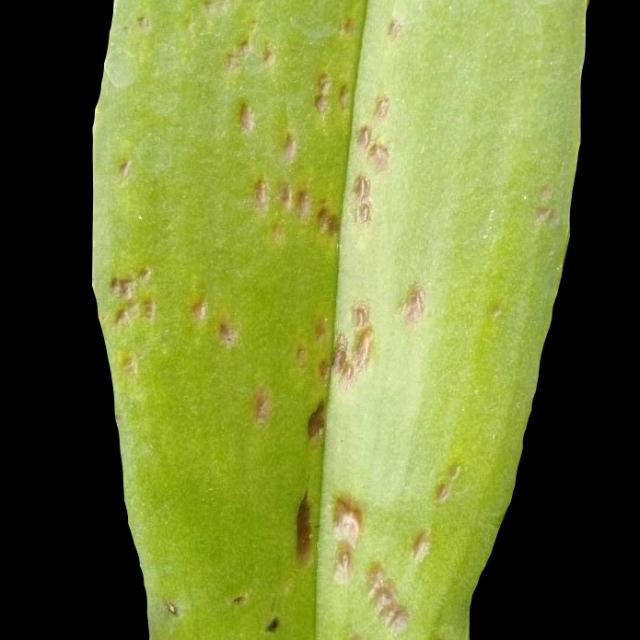mite: (249, 172, 343, 244), (157, 590, 285, 634), (105, 265, 157, 328), (429, 460, 463, 506), (314, 204, 340, 239), (107, 273, 135, 299), (215, 319, 238, 347), (432, 479, 452, 503), (262, 614, 281, 634), (162, 598, 180, 618), (229, 592, 247, 607)
spots: (89, 1, 589, 637)
